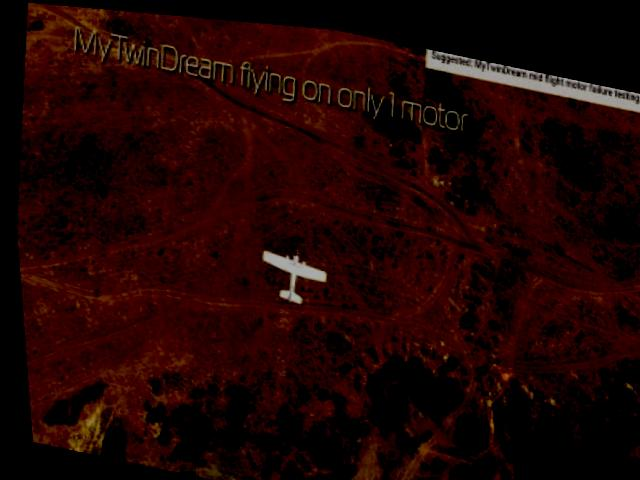uav: (242, 223, 332, 314)
